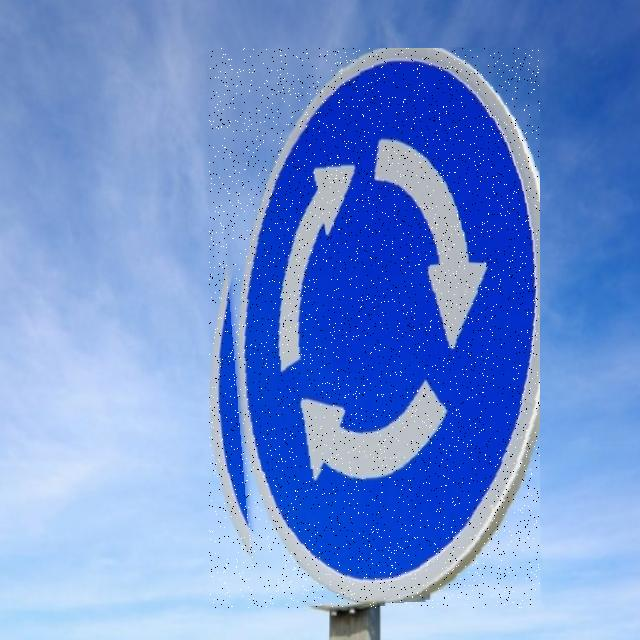roundabout: (209, 48, 540, 608)
